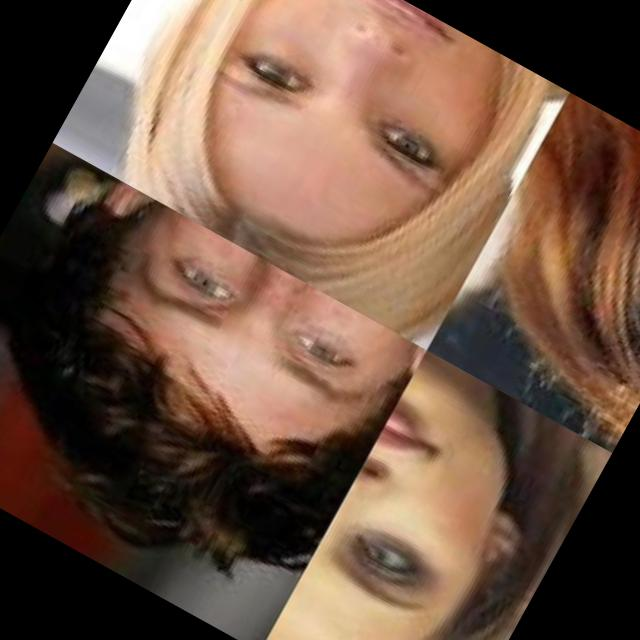bareface: (114, 0, 542, 325)
